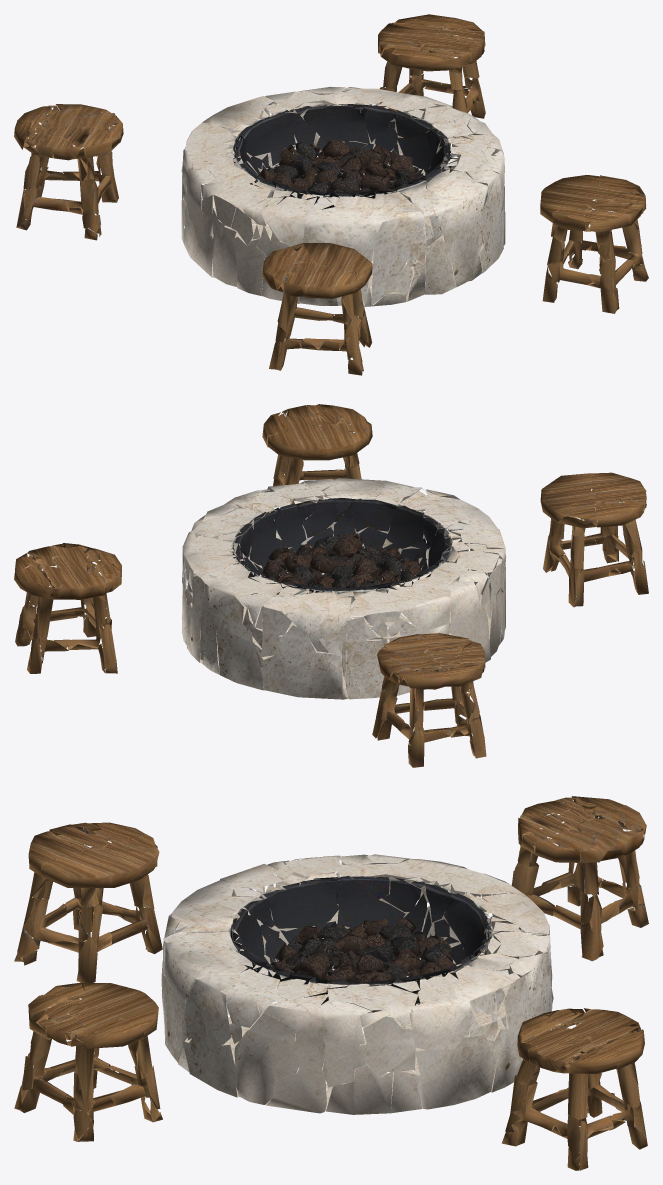
The model's file is fire-pit.glb.
The picture shows the model from 3 angles, top to bottom: view 1: azimuth 30°, elevation 25°; view 2: azimuth 150°, elevation 25°; view 3: azimuth 270°, elevation 25°; orthographic projection. The views are drawn at different scales.
Parts seen in each view (by area): view 1: Mesh_0; view 2: Mesh_0; view 3: Mesh_0.
Part boxes in pixels (x1=…): Mesh_0: x1=14, y1=14, x2=648, y2=375; Mesh_0: x1=14, y1=404, x2=648, y2=767; Mesh_0: x1=14, y1=796, x2=648, y2=1170.
Size of the model in its own units: 1.9 by 0.3587 by 1.87.
Materials: 1 (1 with a texture image).
